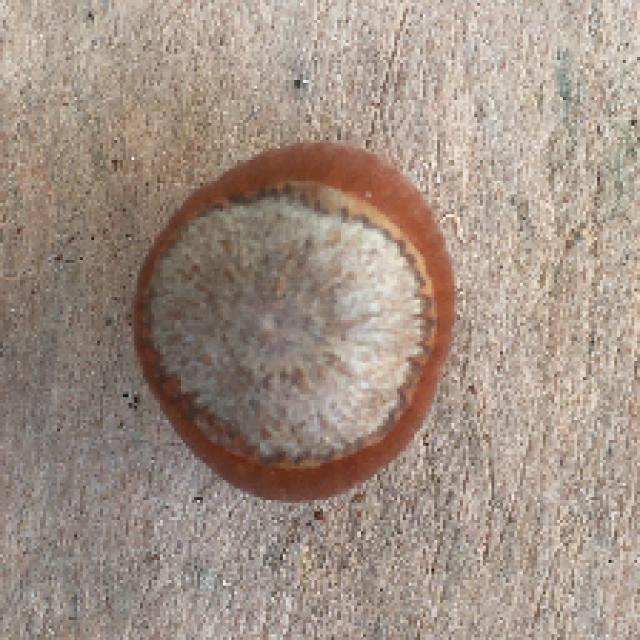qualityHazelnut: (134, 134, 460, 510)
